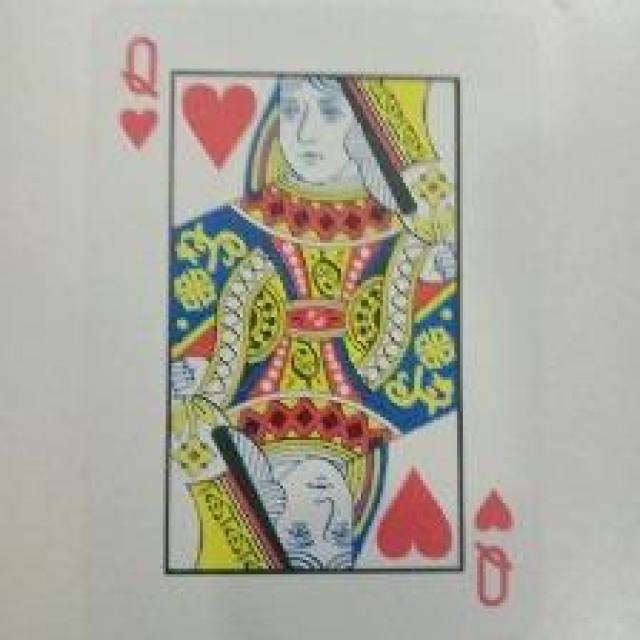Queen of hearts: (94, 16, 540, 632)
